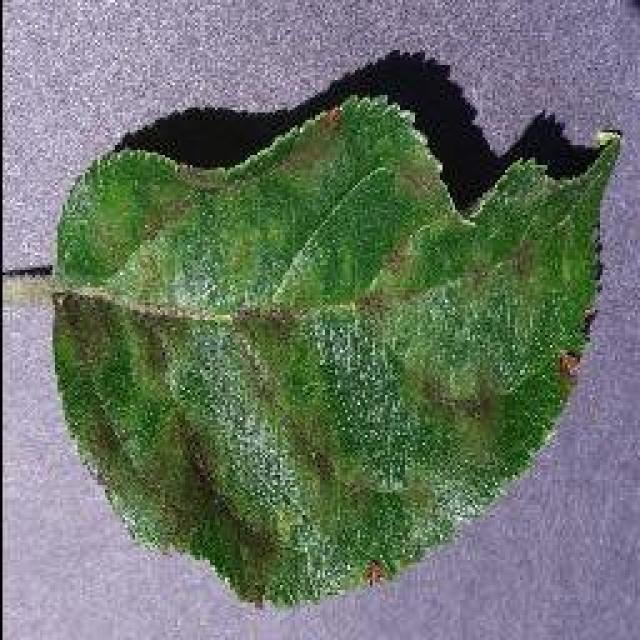apple scab disease: (48, 65, 622, 610)
